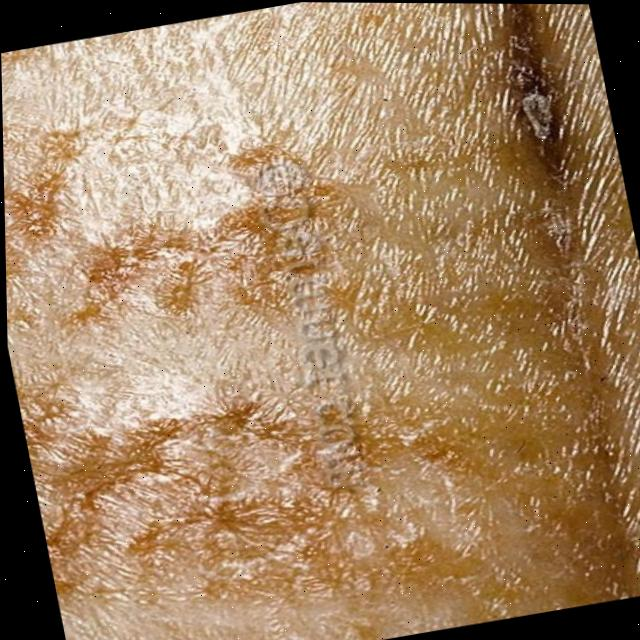Eczema: (0, 13, 640, 640)
